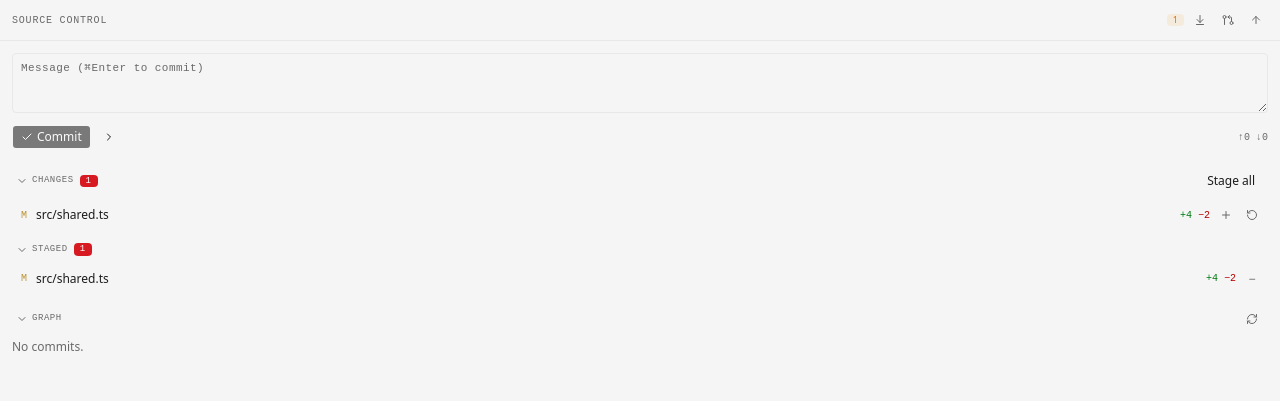
Test case: SourceControlPanel › expands working-tree and staged diffs independently for the same path
Click the 1st button "src/shared.ts".
click(72, 214)  # box [36,207,1176,223]
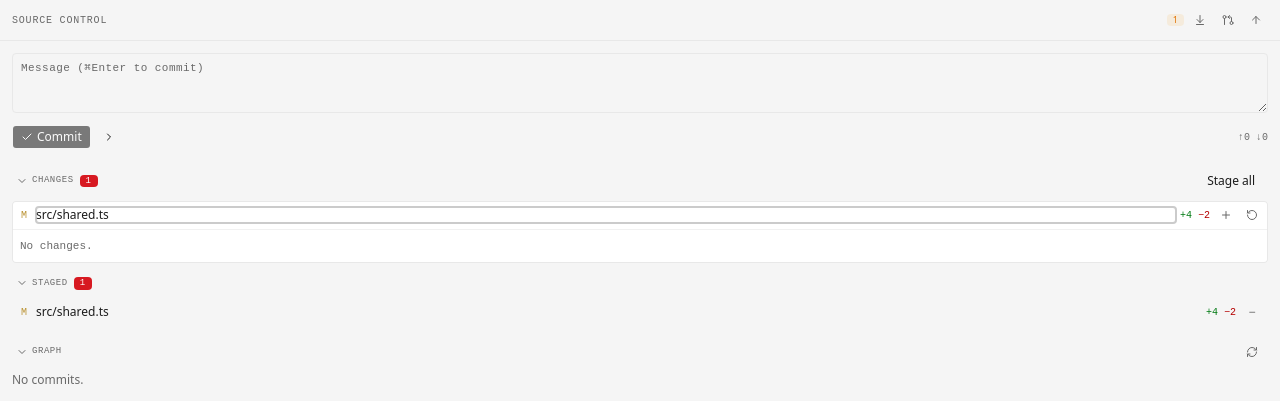
Expected: the 1st button "src/shared.ts" is expanded, [36,207,1176,223]
Click the 2nd button "src/shared.ts".
click(72, 312)  # box [36,304,1202,320]
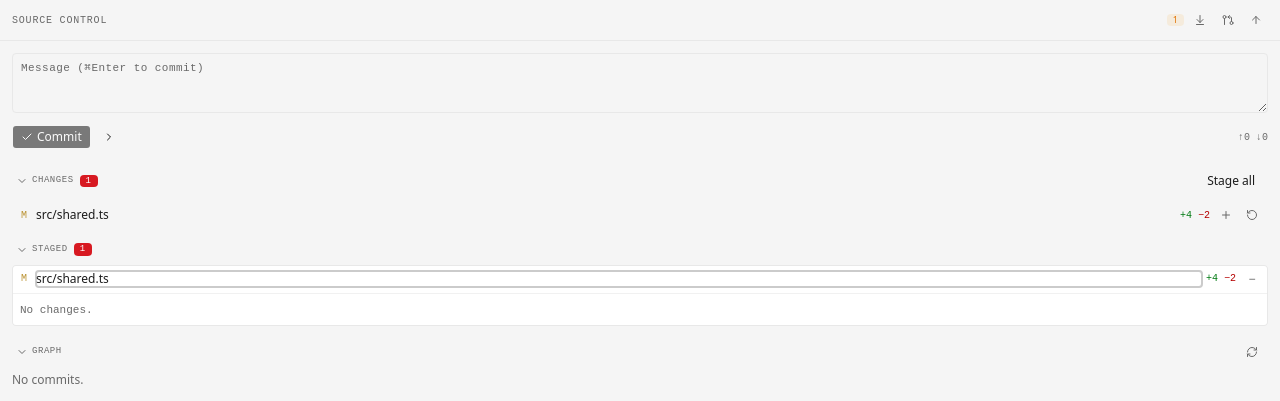
Expected: the 1st button "src/shared.ts" is collapsed, [36,207,1176,223]
Expected: the 2nd button "src/shared.ts" is expanded, [36,270,1202,286]
